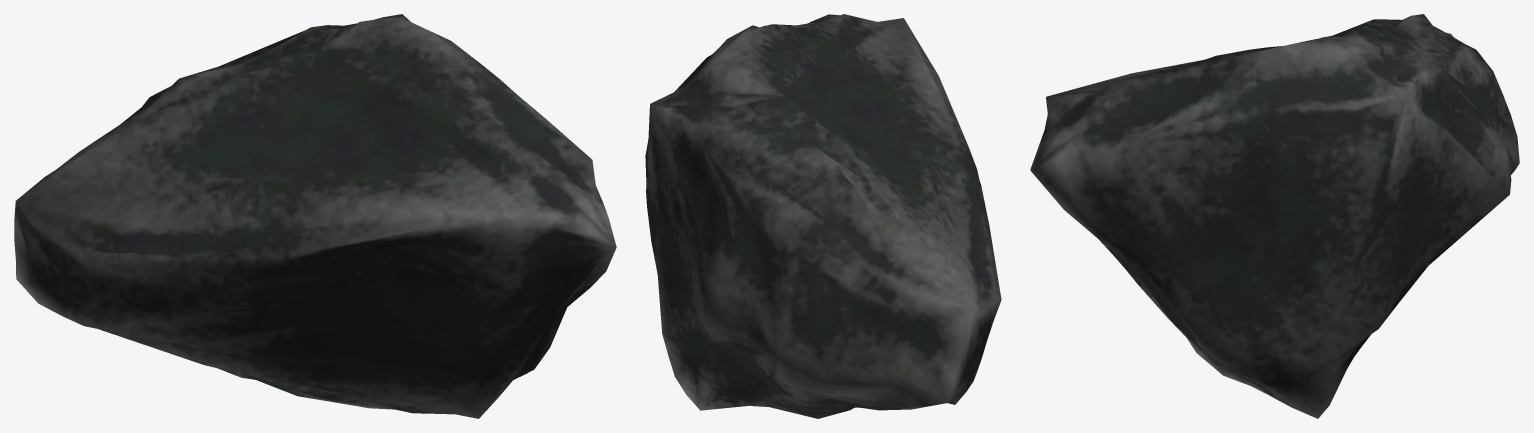
The model's file is rockDemo_01.glb.
3 views of the same model, side by side, from view 1: azimuth 30°, elevation 25°; view 2: azimuth 150°, elevation 25°; view 3: azimuth 270°, elevation 25° (orthographic). The views are drawn at different scales.
Parts seen in each view (by area): view 1: Rock_01; view 2: Rock_01; view 3: Rock_01.
Boxes of the visible parts, bbox=[...] form: Rock_01: bbox=[14, 14, 616, 418]; Rock_01: bbox=[645, 14, 1001, 418]; Rock_01: bbox=[1030, 14, 1519, 418].
Size of the model in its own units: 0.4475 by 0.4248 by 0.5217.
1 material, 1 textured.
